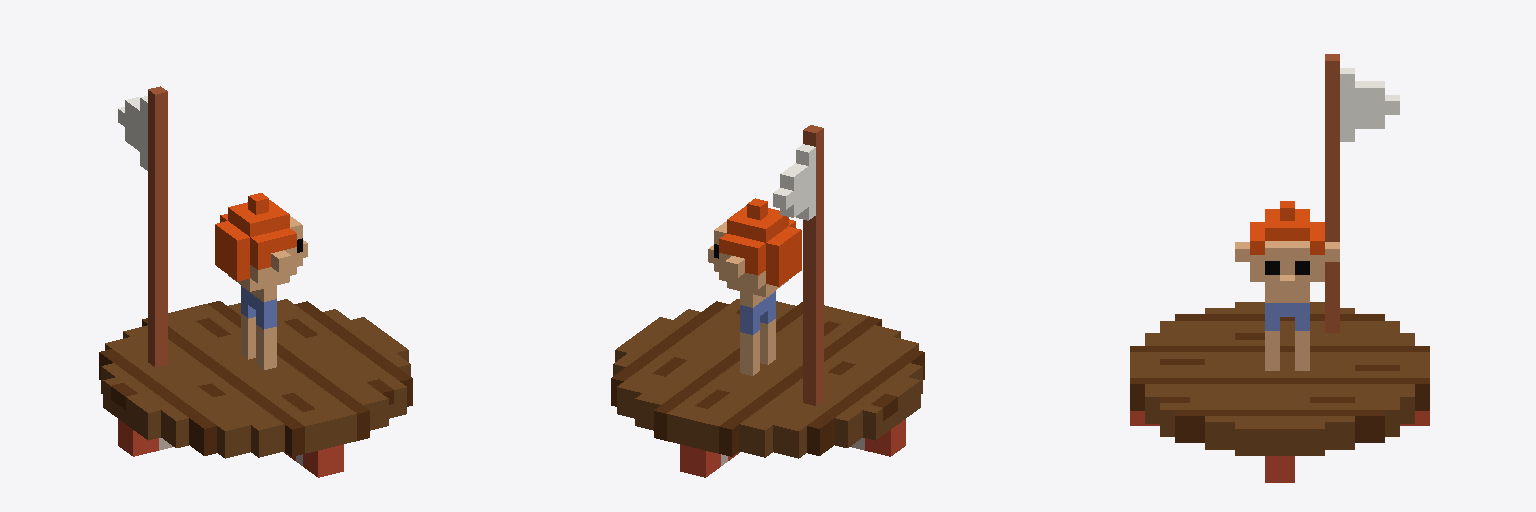
3 renders of one model, left to right at view 1: azimuth 30°, elevation 25°; view 2: azimuth 150°, elevation 25°; view 3: azimuth 270°, elevation 25°, orthographic.
Parts seen in each view (by area): view 1: object 1; view 2: object 1; view 3: object 1.
Boxes of the visible parts, box(x1,y1,x2,y2) form: object 1: box(99, 86, 412, 477); object 1: box(611, 125, 924, 477); object 1: box(1130, 54, 1429, 482).
Size of the model in its own units: 2 by 2.4 by 2.
1 materials, 1 textured.